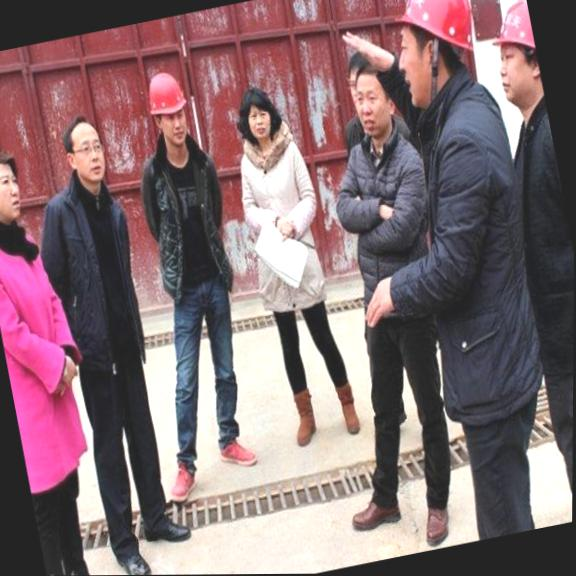no_safety_vest: (384, 71, 564, 427), (26, 176, 160, 387), (0, 207, 103, 478), (489, 91, 575, 374), (222, 125, 338, 316), (331, 128, 450, 314), (131, 134, 243, 303)
